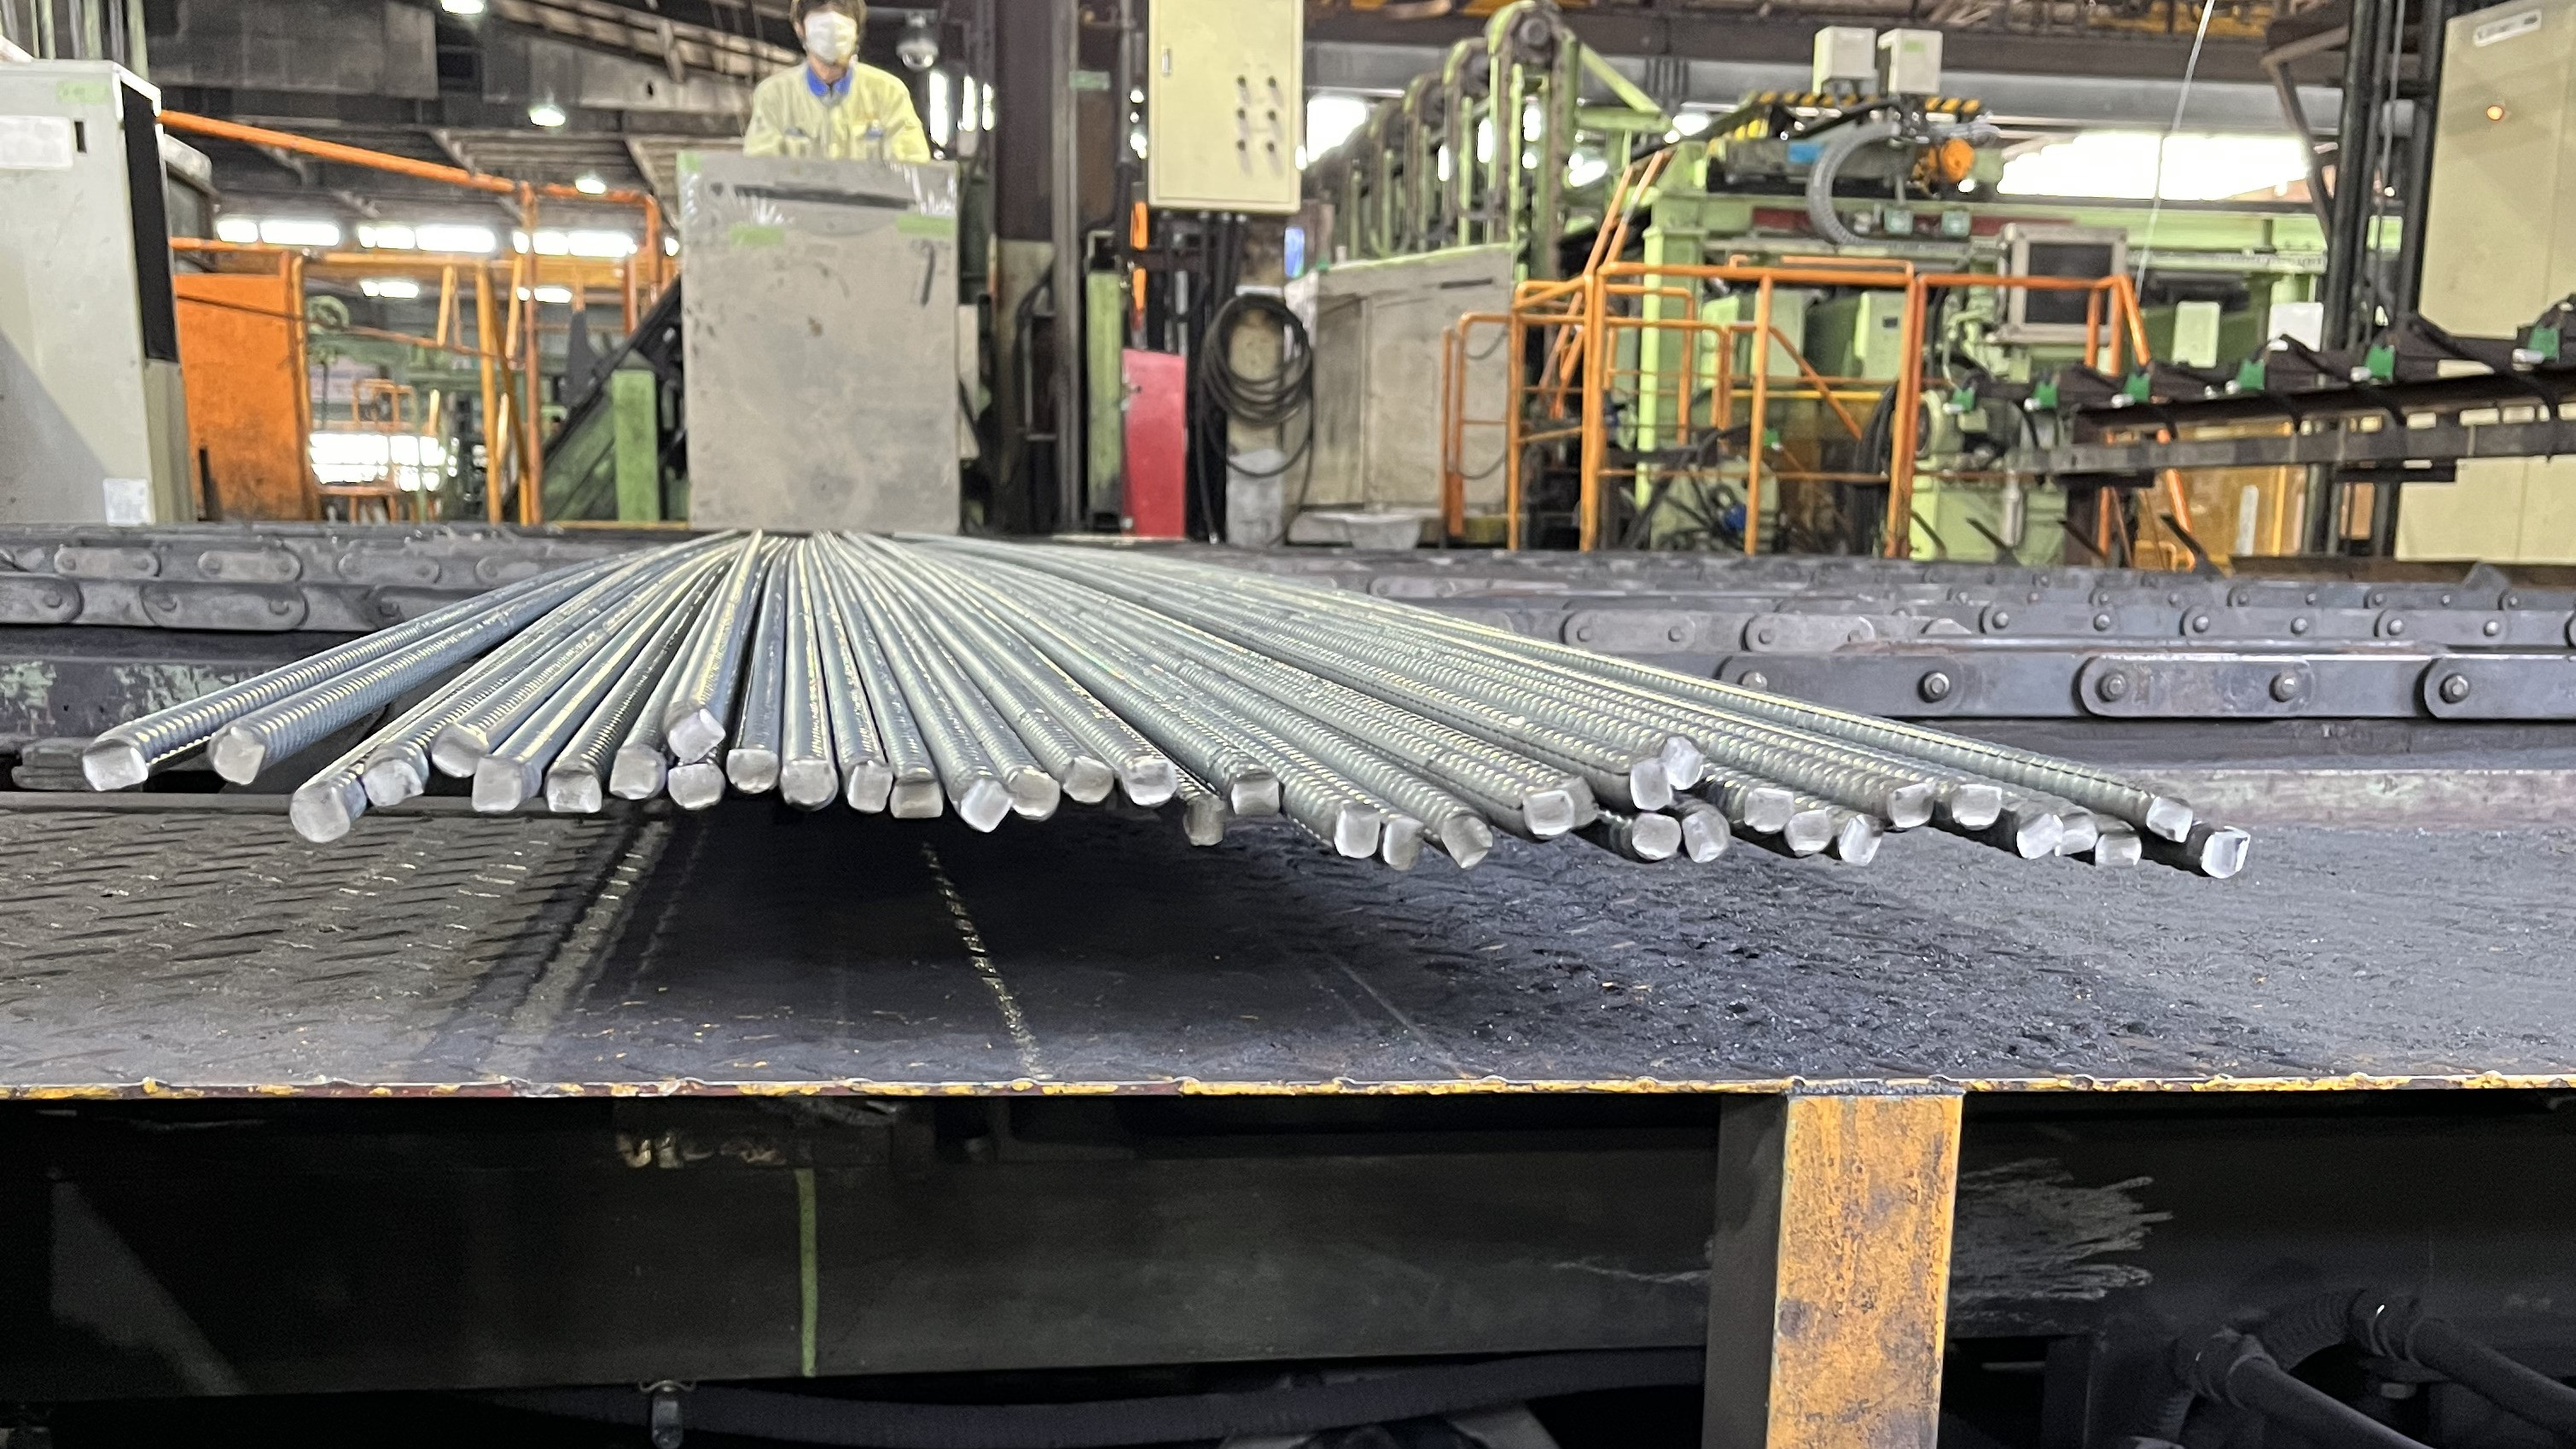rod: (287, 782, 352, 846), (80, 740, 152, 794), (207, 724, 267, 787), (428, 720, 492, 777), (663, 708, 725, 764), (607, 743, 665, 801), (1438, 810, 1495, 870), (471, 754, 525, 814), (959, 775, 1012, 835), (665, 761, 727, 812), (778, 759, 839, 810), (361, 757, 425, 805), (1005, 768, 1062, 821), (1520, 789, 1576, 842), (1681, 807, 1730, 865), (543, 768, 603, 816), (1660, 731, 1706, 793), (1123, 757, 1178, 809), (1332, 803, 1380, 862), (1836, 810, 1884, 869), (890, 771, 945, 821), (1228, 771, 1283, 821), (1743, 784, 1798, 833), (724, 748, 780, 796), (1948, 784, 2005, 832), (1629, 810, 1681, 862), (1062, 755, 1115, 805), (2143, 796, 2197, 844), (1886, 780, 1937, 830), (1182, 793, 1228, 847), (2015, 810, 2065, 860), (2199, 832, 2249, 881), (1783, 809, 1835, 856), (1382, 816, 1424, 872), (846, 763, 892, 814), (1559, 773, 1601, 828), (1628, 759, 1672, 810), (2091, 830, 2143, 870), (2056, 810, 2098, 856)
